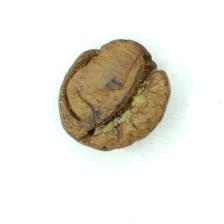NG: (58, 41, 152, 140)
